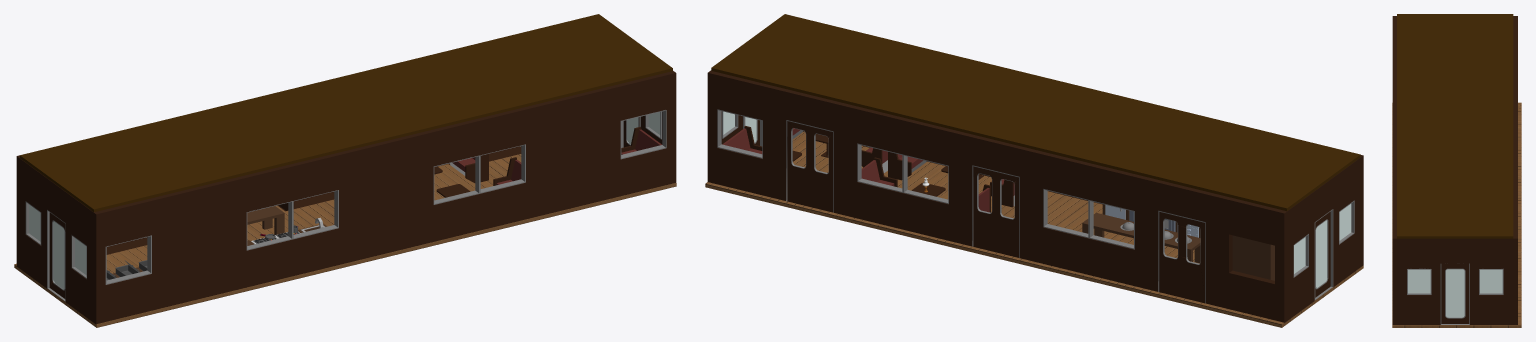
The model's file is Carruagem3NOVA.fbx.
3 views of the same model, side by side, from view 1: azimuth 30°, elevation 25°; view 2: azimuth 150°, elevation 25°; view 3: azimuth 270°, elevation 25° (orthographic). The views are drawn at different scales.
Parts seen in each view (by area): view 1: PAREDE, LuzTeto, chao, extras, vidroporta, Mesa, Banco2.001, Banco2.006; view 2: PAREDE, LuzTeto, chao, extras, porta4, porta5, porta6, Armario, Mesa, vidroporta, Banco2.004, Banco2.001 (+2 smaller); view 3: LuzTeto, PAREDE, chao, janeladaporta, porta, janela3, janela4, Janela/porta, moldporta, moldurajanela4, moldurajanela3.
Boxes of the visible parts, <box> form: PAREDE: <box>16,71,676,324</box>; LuzTeto: <box>20,14,672,212</box>; chao: <box>14,154,676,327</box>; extras: <box>105,110,666,284</box>; vidroporta: <box>53,221,64,289</box>; Mesa: <box>247,206,284,234</box>; Banco2.001: <box>448,154,488,182</box>; Banco2.006: <box>621,127,661,154</box>; PAREDE: <box>707,70,1363,322</box>; LuzTeto: <box>711,14,1360,211</box>; chao: <box>705,131,1363,327</box>; extras: <box>717,109,1205,303</box>; porta4: <box>787,121,832,211</box>; porta5: <box>973,166,1018,257</box>; porta6: <box>1159,212,1204,302</box>; Armario: <box>1232,235,1274,280</box>; Mesa: <box>1082,213,1200,263</box>; vidroporta: <box>1316,220,1327,288</box>; Banco2.004: <box>888,152,927,180</box>; Banco2.001: <box>861,157,897,187</box>; LuzTeto: <box>1397,14,1513,238</box>; PAREDE: <box>1392,16,1517,324</box>; chao: <box>1392,102,1521,327</box>; janeladaporta: <box>1446,269,1464,317</box>; porta: <box>1441,263,1469,323</box>; janela3: <box>1480,269,1502,293</box>; janela4: <box>1408,269,1430,293</box>; Janela/porta: <box>1445,268,1465,318</box>; moldporta: <box>1440,263,1469,324</box>; moldurajanela4: <box>1407,268,1431,294</box>; moldurajanela3: <box>1479,268,1503,294</box>.
Bounding box in the file's own units: 1706 × 327 × 419.
Materials: 151 (2 with a texture image).
